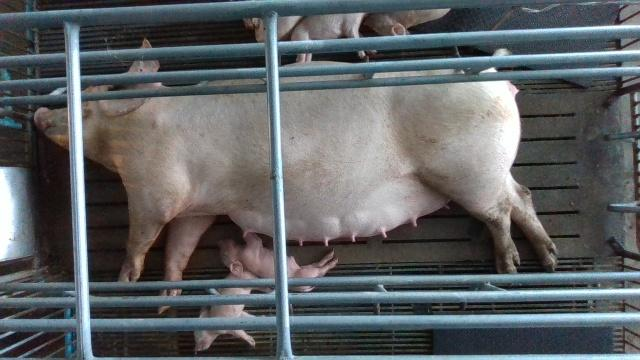piglet: (216, 232, 338, 292), (193, 270, 275, 351), (290, 12, 377, 63), (364, 9, 451, 35)
sow-sleep-lactate: (34, 40, 560, 315)
